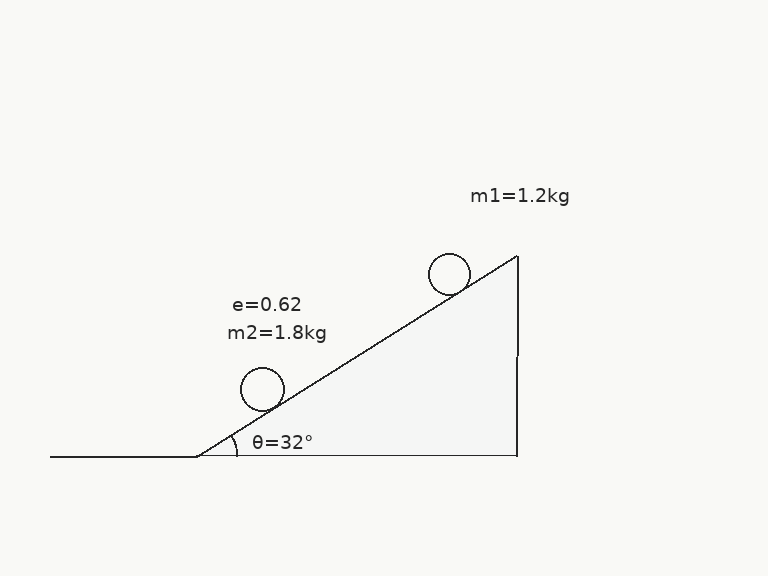ball: (238, 365, 286, 413), (426, 251, 472, 297)
ramp: (195, 254, 519, 458)
